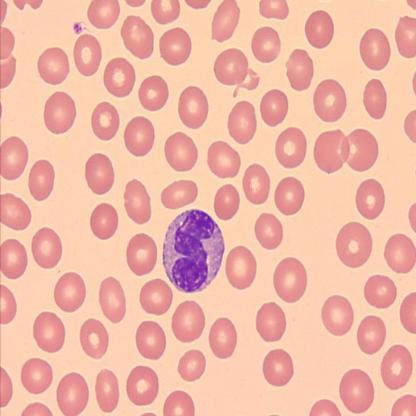Monocyte: (160, 206, 227, 296)
